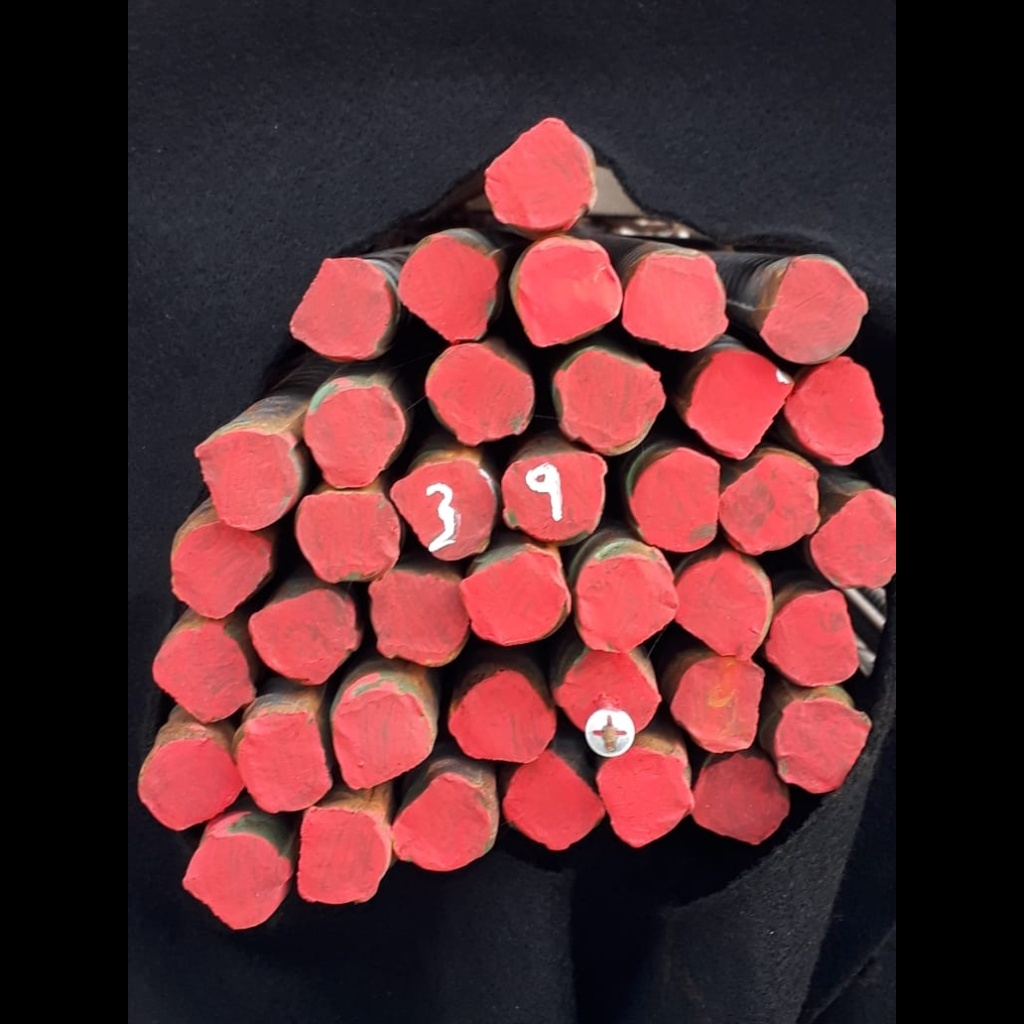dipstick: (481, 116, 597, 235), (511, 237, 623, 346), (685, 347, 794, 459), (758, 255, 865, 364), (399, 232, 499, 345), (391, 459, 496, 564), (304, 382, 407, 489), (557, 351, 666, 452), (623, 249, 729, 352), (427, 342, 534, 444), (290, 256, 394, 360), (149, 625, 259, 723), (458, 552, 571, 647), (183, 834, 291, 933), (195, 428, 299, 530), (721, 452, 822, 556), (332, 687, 434, 788), (503, 751, 606, 851), (449, 669, 556, 765), (138, 735, 245, 830), (394, 774, 493, 876), (252, 589, 358, 684), (172, 520, 272, 620), (368, 568, 468, 667), (557, 644, 659, 741), (786, 357, 876, 466), (576, 555, 678, 651), (597, 748, 693, 850), (692, 753, 791, 850), (502, 450, 607, 540), (629, 448, 719, 552), (297, 493, 400, 583), (239, 712, 331, 812), (677, 555, 768, 656), (776, 700, 872, 794), (296, 805, 386, 904), (768, 590, 859, 687), (672, 657, 763, 751), (811, 491, 896, 588)
